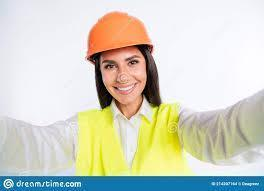helmet: (85, 11, 155, 65)
